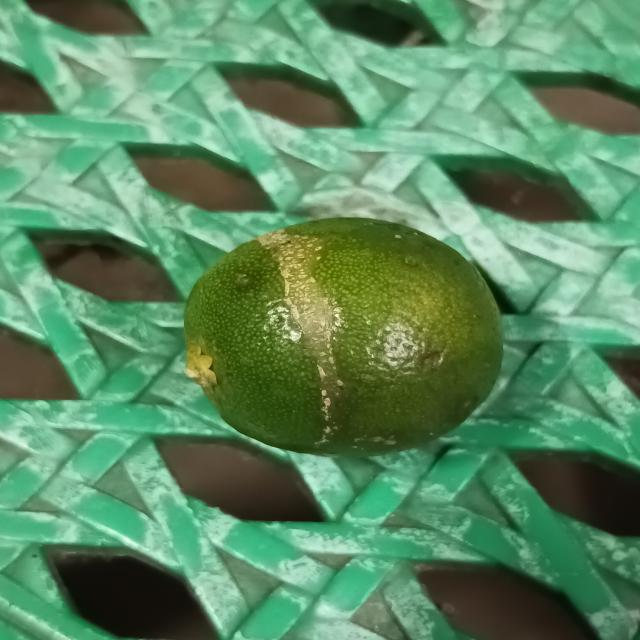thrips: (181, 215, 509, 462)
